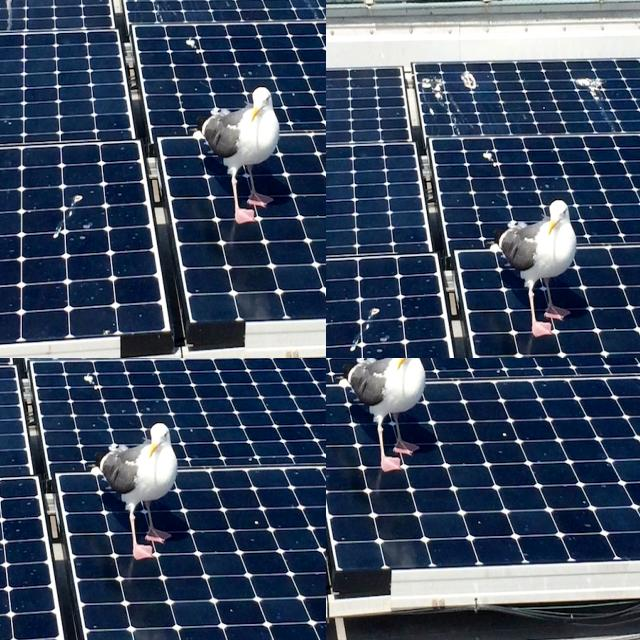bird: (326, 434, 355, 504), (326, 358, 358, 391), (420, 358, 463, 381), (326, 358, 345, 392), (326, 358, 354, 381), (326, 358, 351, 372)
dust: (326, 242, 640, 358), (129, 358, 326, 531), (0, 572, 172, 640), (0, 460, 76, 612)
shadow: (0, 0, 75, 50)
